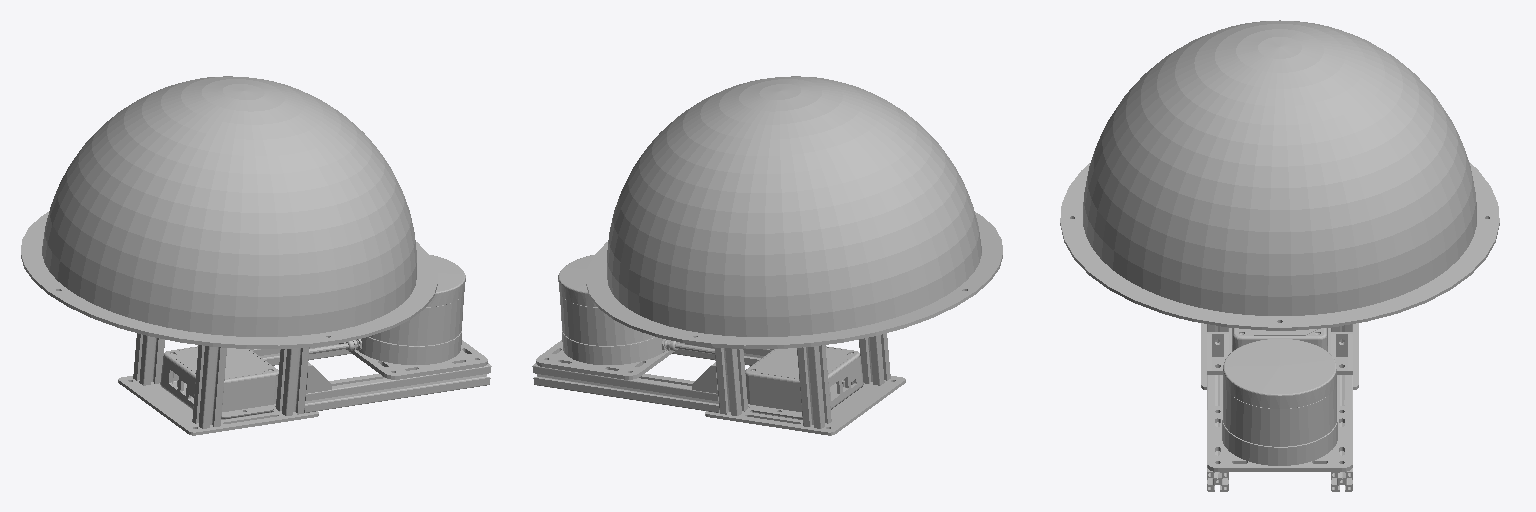
URDF robot description (wamv_nycu_description):
<?xml version="1.0" encoding="utf-8"?>
<!-- This URDF was automatically created by SolidWorks to URDF Exporter! Originally created by [author] ([email redacted]) 
     Commit Version: 1.6.0-4-g7f85cfe  Build Version: 1.6.7995.38578
     For more information, please see http://wiki.ros.org/sw_urdf_exporter -->
<!--Now LiDAR are placed on drone instead. and no zed -->
<robot
  name="wamv_nycu_description"> 
  <link
    name="base_link">
    <inertial>
      <origin
        xyz="-0.14028 3.7755E-05 0.25989"
        rpy="0 0 0" />
      <mass
        value="1299.7" />
      <inertia
        ixx="31.631"
        ixy="-0.16113"
        ixz="-30.638"
        iyy="868.3"
        iyz="-0.0017548"
        izz="868.5" />
    </inertial>
    <visual>
      <origin
        xyz="0 0 0"
        rpy="0 0 0" />
      <geometry>
        <mesh
          filename="package://wamv_nycu_description/meshes/base_link.STL" />
      </geometry>
      <material
        name="">
        <color
          rgba="0.75294 0.75294 0.75294 1" />
      </material>
    </visual>
    <collision>
      <origin
        xyz="0 0 0"
        rpy="0 0 0" />
      <geometry>
        <mesh
          filename="package://wamv_nycu_description/meshes/base_link.STL" />
      </geometry>
    </collision>
  </link>
  <link
    name="velodyne_link">
    <inertial>
      <origin
        xyz="-0.188762487815318 -9.6644577284098E-07 0.122816024985303"
        rpy="0 0 0" />
      <mass
        value="12.7337859353388" />
      <inertia
        ixx="0.0948941866690778"
        ixy="-1.26547231096271E-07"
        ixz="1.89605624084633E-07"
        iyy="0.0950885725877562"
        iyz="1.30843936126773E-08"
        izz="0.147742361343186" />
    </inertial>
    <visual>
      <origin
        xyz="0 0 0"
        rpy="0 0 0" />
      <geometry>
        <mesh
          filename="package://wamv_nycu_description/meshes/velodyne_link.STL" />
      </geometry>
      <material
        name="">
        <color
          rgba="0.752941176470588 0.752941176470588 0.752941176470588 1" />
      </material>
    </visual>
    <collision>
      <origin
        xyz="0 0 0"
        rpy="0 0 0" />
      <geometry>
        <mesh
          filename="package://wamv_nycu_description/meshes/velodyne_link.STL" />
      </geometry>
    </collision>
  </link>
  <joint
    name="velodyne_joint"
    type="fixed">
    <origin
      xyz="0.854662 -0.005351 1.73772"
      rpy="0 0.087266 0" />
    <parent
      link="base_link" />
    <child
      link="velodyne_link" />
    <axis
      xyz="0 0 0" />
  </joint>
</robot>

--- Facts derived from the render (not from the file) ---
3 views of the same robot in one strip: view 1: azimuth 30°, elevation 25°; view 2: azimuth 150°, elevation 25°; view 3: azimuth 270°, elevation 25° (orthographic).
Robot: wamv_nycu_description — 2 links, 1 joints (1 fixed); root link base_link; default pose: every joint at zero.
Links seen in each view (by area): view 1: velodyne_link; view 2: velodyne_link; view 3: velodyne_link.
Link boxes in pixels (x1,y1,x2,y2): velodyne_link: (21, 76, 491, 435); velodyne_link: (532, 76, 1002, 435); velodyne_link: (1060, 20, 1499, 491).
Size in the robot's own frame: 0.4407 by 0.3897 by 0.3297 metres.
Meshes: 2 distinct files referenced, 1 mesh visuals loaded (1 binary STL); not drawn: 1 (reference not matched to a file when rendering).